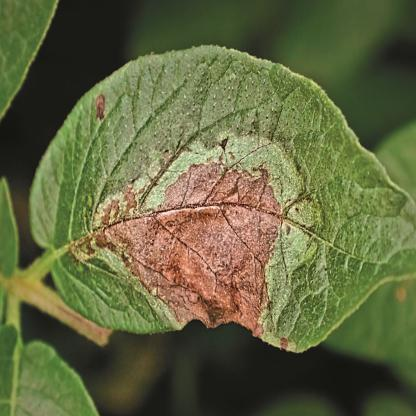potato leaf late blight: (25, 40, 416, 359)
